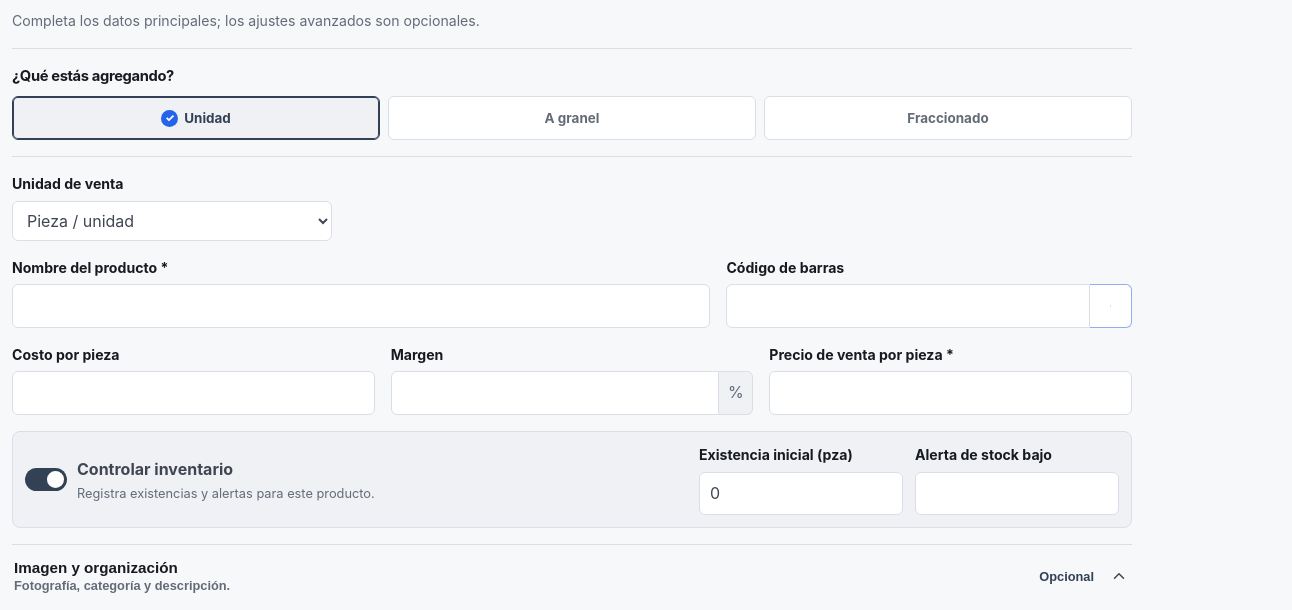
Scenario: ProductFormV2 › uses canonical sale and purchase unit selects and restores the compact wholesale action
Expected: the dropdown labelled "Unidad de venta" shows "Pieza / unidad", [12,201,332,241]
What coordinates should you click on to do the following:
click the radio button labelled "A granel"
I would click on:
 (572, 118)
Its box is [388,96,756,140].
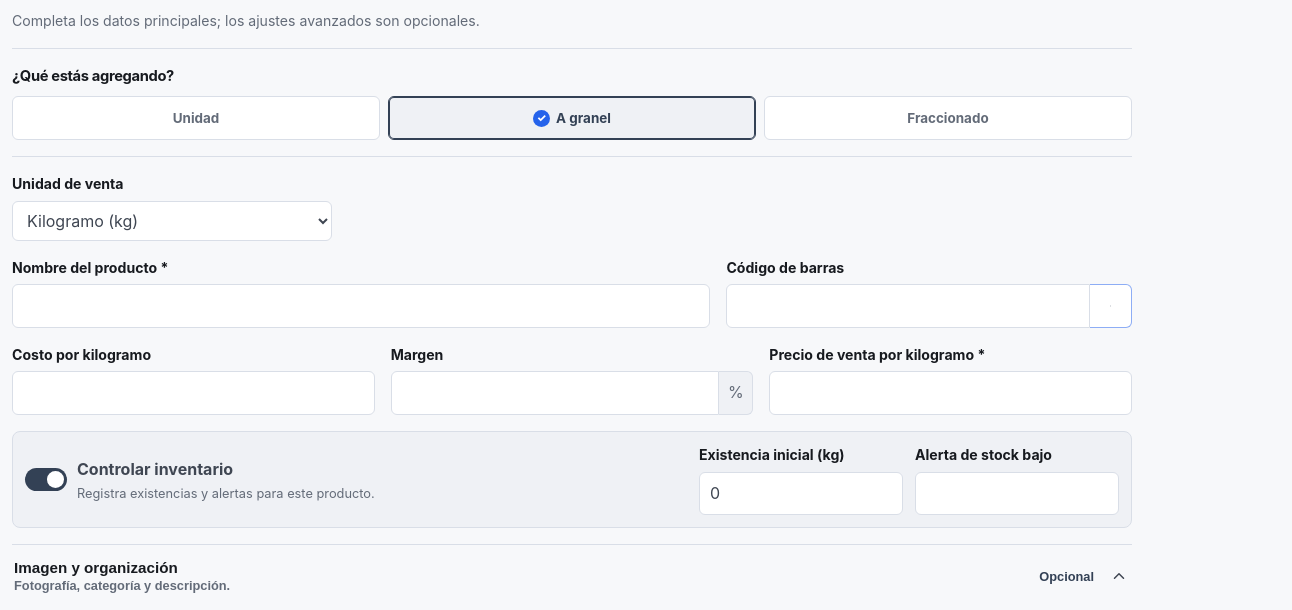
Now the dropdown labelled "Unidad de venta" shows "Kilogramo (kg)", box [12,201,332,241]
What coordinates should you click on to do the following:
click the radio button labelled "Fraccionado"
I would click on:
 (948, 118)
Its box is [764,96,1132,140].
(page scrolled)
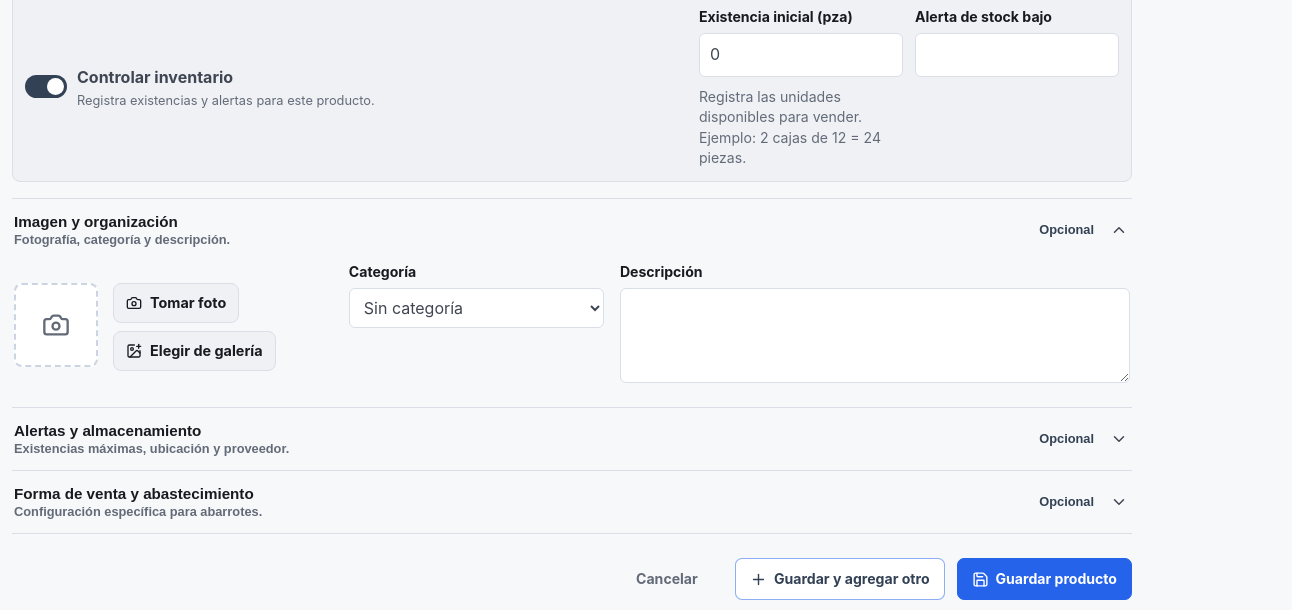
What coordinates should you click on to do the following:
click the button "Forma de venta y abastecimiento"
I would click on:
 (134, 493)
Its box is [12,471,1132,533].
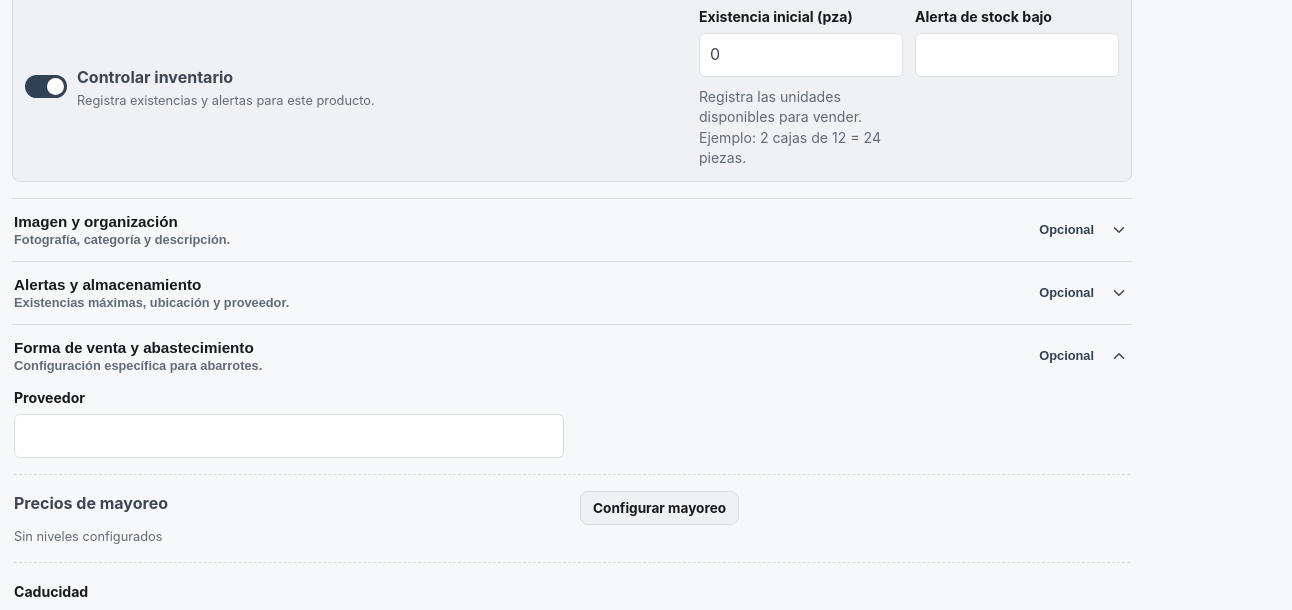
Now the button "Configurar mayoreo" is shown, box [580,491,739,525]
